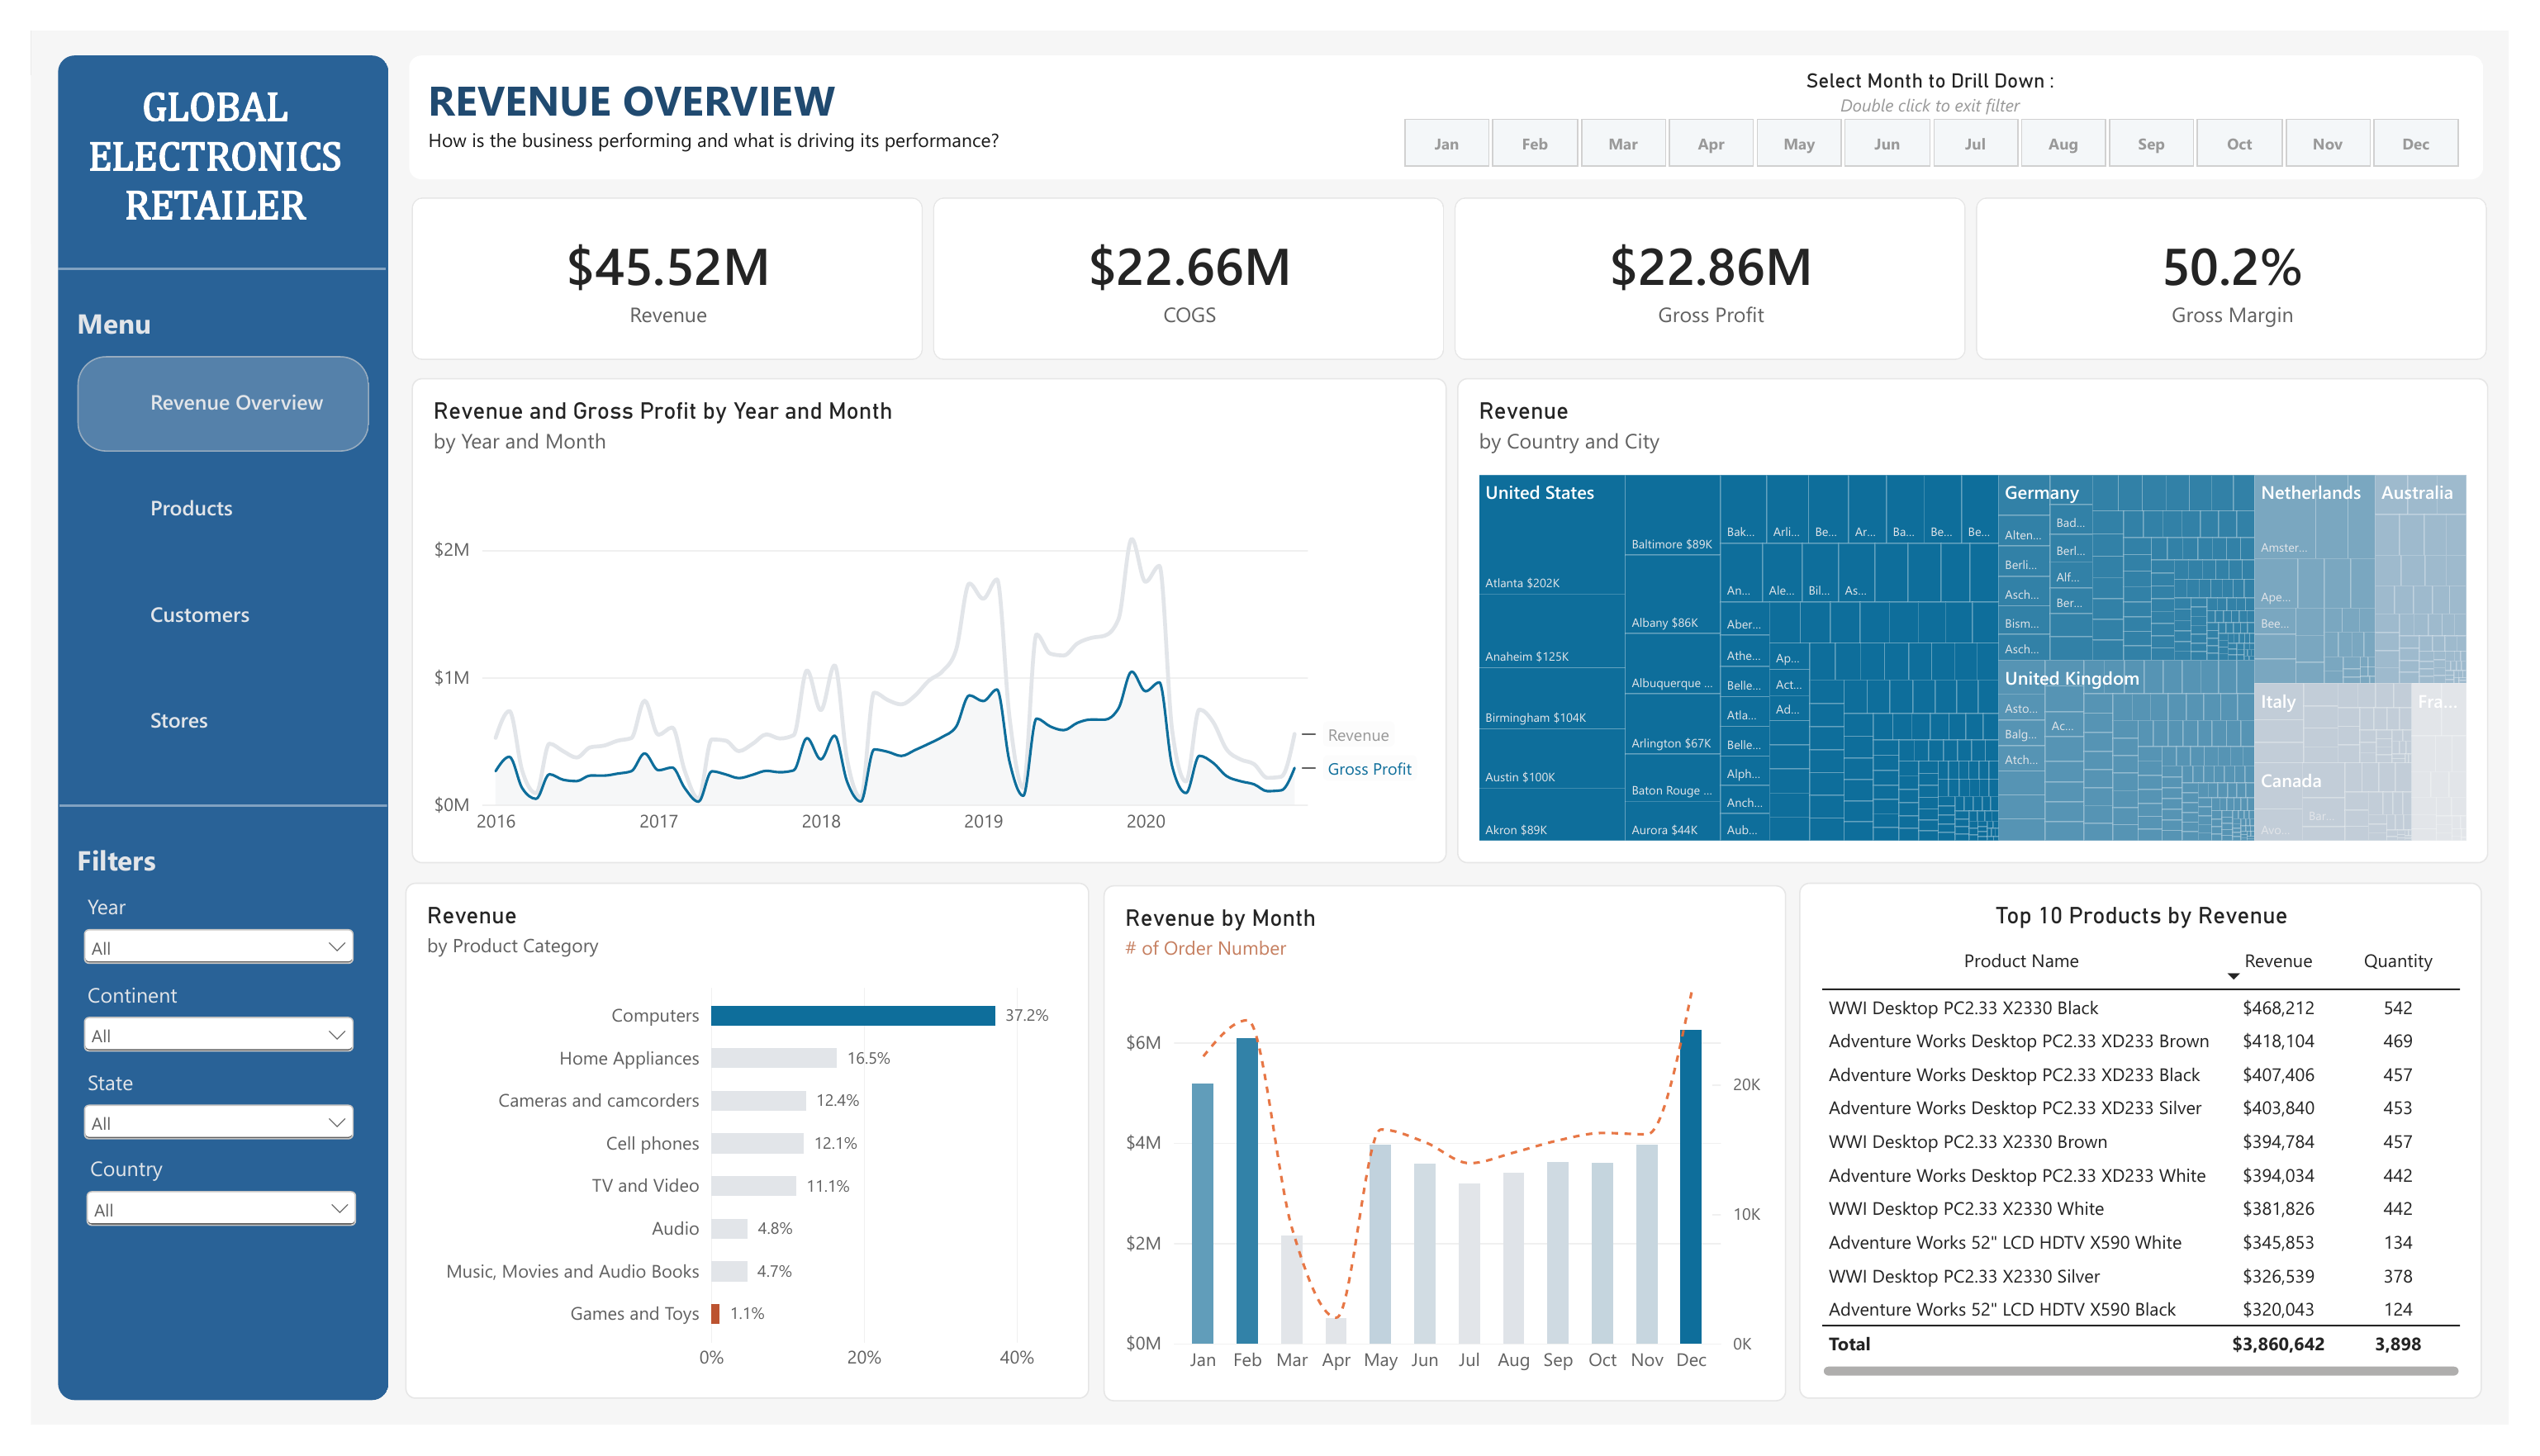

The dashboard page shown, as its layout file describes it:
{"tool":"powerbi","page":{"name":"Revenue Overview","canvas":[1920,1080],"ordinal":0},"visuals":[{"type":"cardVisual","fields":{"Data":["Sum(Fact_Sales.Revenue)","Sum(Fact_Sales.COGS)","Measures_Table.Gross Profit","Measures_Table.Gross Margin"]},"box":[295.3,128.6,1609.4,126.4],"z":0},{"type":"lineChart","fields":{"Category":["Dim_Date.Date.Variation.Date Hierarchy.Year","Dim_Date.Date.Variation.Date Hierarchy.Month"],"Y":["Sum(Fact_Sales.Revenue)","Measures_Table.Gross Profit"]},"box":[295.3,269.1,801.5,375.9],"z":1000,"group":"g2"},{"type":"group","id":"g1","title":"Group 1","box":[290,659.7,1609.4,401.7],"z":1000},{"type":"shape","box":[21.3,18.6,255.4,1042.8],"z":2000},{"type":"lineClusteredColumnComboChart","title":"Revenue by Month","fields":{"Category":["Dim_Date.Month"],"Y":["Sum(Fact_Sales.Revenue)"],"Y2":["Sum(Fact_Sales.Quantity)"]},"box":[830.7,661.6,529.1,399.8],"z":2000,"group":"g1"},{"type":"shape","box":[292.6,18.6,1606.7,95.8],"z":3000,"group":"g3"},{"type":"group","id":"g2","title":"Group 2","box":[295.3,269.1,1609.4,376.4],"z":3000},{"type":"treemap","fields":{"Details":["Dim_Customers.City"],"Group":["Dim_Customers.Country"],"Values":["Sum(Fact_Sales.Revenue)"]},"box":[1105.6,269.6,799,375.9],"z":3000,"group":"g2"},{"type":"group","id":"g3","title":"Group 3","box":[292.6,18.6,1606.7,95.8],"z":4000},{"type":"clusteredBarChart","title":"Revenue","fields":{"Category":["Dim_Products.Category"],"Y":["Sum(Fact_Sales.Revenue)"]},"box":[290,659.7,529.6,399.8],"z":4000,"group":"g1"},{"type":"textbox","box":[307.2,30.6,498.8,71.8],"z":5000,"group":"g3"},{"type":"group","id":"g4","title":"Group 4","box":[21.3,41.8,255.4,586],"z":5000},{"type":"textbox","box":[30.2,41.8,226.1,126.4],"z":5000,"group":"g4"},{"type":"textbox","box":[35.9,627.8,113.1,39.9],"z":5000,"group":"g5"},{"type":"tableEx","title":"Top 10 Products by Revenue","fields":{"Values":["Dim_Products.Product Name","Sum(Fact_Sales.Revenue)","Sum(Fact_Sales.Quantity)"]},"box":[1369.8,659.7,529.6,399.8],"z":5000,"group":"g1"},{"type":"shape","box":[21.3,157,254,54.5],"z":6000,"group":"g4"},{"type":"group","id":"g5","title":"Group 5","box":[35.9,627.8,219.5,243.4],"z":6000},{"type":"slicer","title":"Select Month to Drill Down :","fields":{"Values":["Dim_Date.Month"]},"box":[1043.2,29.2,856.4,77.3],"z":7000},{"type":"textbox","box":[35.9,211.5,113.1,39.9],"z":7000,"group":"g4"},{"type":"slicer","fields":{"Values":["Dim_Date.Year"]},"box":[35.9,667.7,219.5,67.8],"z":7000,"group":"g5"},{"type":"pageNavigator","box":[35.9,251.4,226.1,321.9],"z":8000,"group":"g4"},{"type":"slicer","fields":{"Values":["Dim_Customers.Continent"]},"box":[35.9,735.5,219.5,67.8],"z":8000,"group":"g5"},{"type":"slicer","fields":{"Values":["Dim_Stores.Country"]},"box":[37.9,871,219.5,67.8],"z":8000},{"type":"shape","box":[22.6,573.3,254,54.5],"z":9000,"group":"g4"},{"type":"slicer","fields":{"Values":["Dim_Customers.State"]},"box":[35.9,803.4,219.5,67.8],"z":9000,"group":"g5"}]}

Visuals, with their boxes on the page's 1920x1080 design canvas (x1, y1, x2, y2). These are canvas units, not pixel positions in the 2540x1456 screenshot, which may show the page scaled, cropped or inside an application window:
cardVisual - Sum(Fact_Sales.Revenue) x Sum(Fact_Sales.COGS): (x1=295, y1=129, x2=1905, y2=255)
lineChart - Dim_Date.Date.Variation.Date Hierarchy.Year x Dim_Date.Date.Variation.Date Hierarchy.Month: (x1=295, y1=269, x2=1097, y2=645)
"Group 1" group: (x1=290, y1=660, x2=1899, y2=1061)
shape: (x1=21, y1=19, x2=277, y2=1061)
"Revenue by Month" lineClusteredColumnComboChart: (x1=831, y1=662, x2=1360, y2=1061)
shape: (x1=293, y1=19, x2=1899, y2=114)
"Group 2" group: (x1=295, y1=269, x2=1905, y2=646)
treemap - Dim_Customers.City x Dim_Customers.Country: (x1=1106, y1=270, x2=1905, y2=646)
"Group 3" group: (x1=293, y1=19, x2=1899, y2=114)
"Revenue" clusteredBarChart: (x1=290, y1=660, x2=820, y2=1060)
textbox: (x1=307, y1=31, x2=806, y2=102)
"Group 4" group: (x1=21, y1=42, x2=277, y2=628)
textbox: (x1=30, y1=42, x2=256, y2=168)
textbox: (x1=36, y1=628, x2=149, y2=668)
"Top 10 Products by Revenue" tableEx: (x1=1370, y1=660, x2=1899, y2=1060)
shape: (x1=21, y1=157, x2=275, y2=212)
"Group 5" group: (x1=36, y1=628, x2=255, y2=871)
"Select Month to Drill Down :" slicer: (x1=1043, y1=29, x2=1900, y2=106)
textbox: (x1=36, y1=212, x2=149, y2=251)
slicer - Dim_Date.Year: (x1=36, y1=668, x2=255, y2=736)
pageNavigator: (x1=36, y1=251, x2=262, y2=573)
slicer - Dim_Customers.Continent: (x1=36, y1=736, x2=255, y2=803)
slicer - Dim_Stores.Country: (x1=38, y1=871, x2=257, y2=939)
shape: (x1=23, y1=573, x2=277, y2=628)
slicer - Dim_Customers.State: (x1=36, y1=803, x2=255, y2=871)
